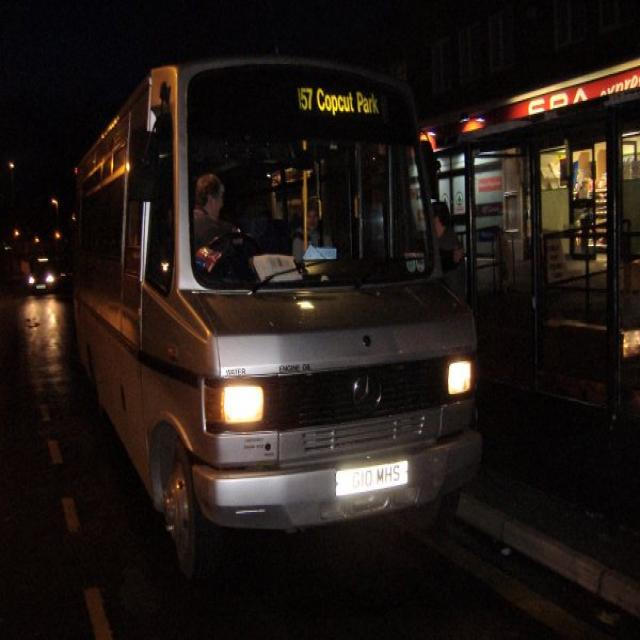Bus: (62, 57, 490, 556)
People: (183, 162, 242, 288), (430, 187, 479, 313), (298, 181, 335, 270)
car: (0, 216, 64, 377)
